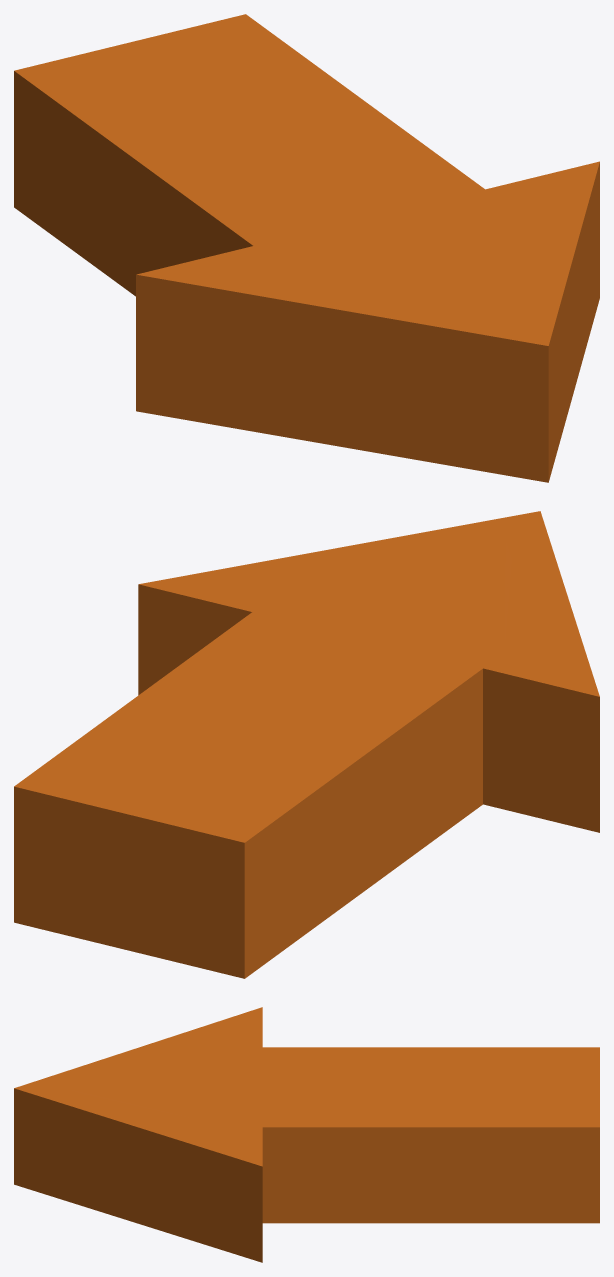
File: backward.glb
3 views of the same model, one above another, from view 1: azimuth 30°, elevation 25°; view 2: azimuth 150°, elevation 25°; view 3: azimuth 270°, elevation 25° (orthographic). The views are drawn at different scales.
Parts seen in each view (by area): view 1: Plane; view 2: Plane; view 3: Plane.
Boxes of the visible parts, left/top/right/bottom form: Plane: left=14, top=14, right=599, bottom=482; Plane: left=14, top=511, right=599, bottom=978; Plane: left=14, top=1007, right=599, bottom=1262.
Bounding box in the file's own units: 1.67 × 0.4705 × 2.59.
